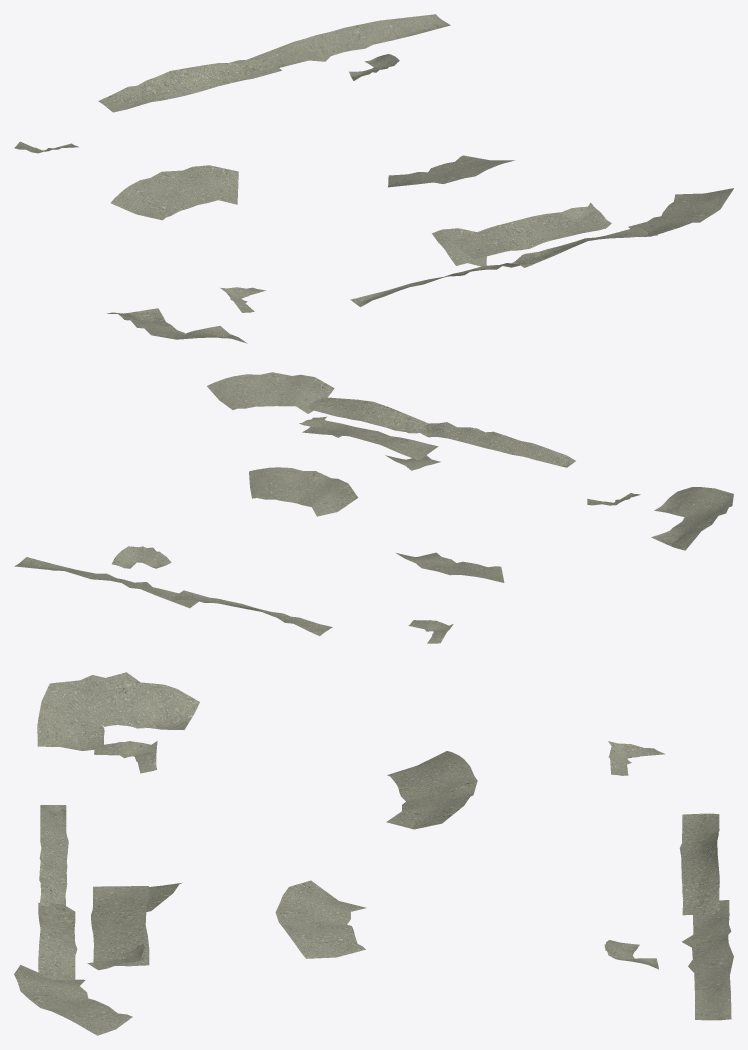
The model's file is Rubbles_03.fbx.
3 views of the same model, one above another, from view 1: azimuth 30°, elevation 25°; view 2: azimuth 150°, elevation 25°; view 3: azimuth 270°, elevation 25° (orthographic). The views are drawn at different scales.
Parts seen in each view (by area): view 1: Rubbles_03; view 2: Rubbles_03; view 3: Rubbles_03.
Part boxes in pixels (bbox=[...]): Rubbles_03: bbox=[14, 14, 733, 343]; Rubbles_03: bbox=[14, 372, 733, 643]; Rubbles_03: bbox=[14, 672, 733, 1035].
Bounding box in the file's own units: 4513 × 199 × 3866.
